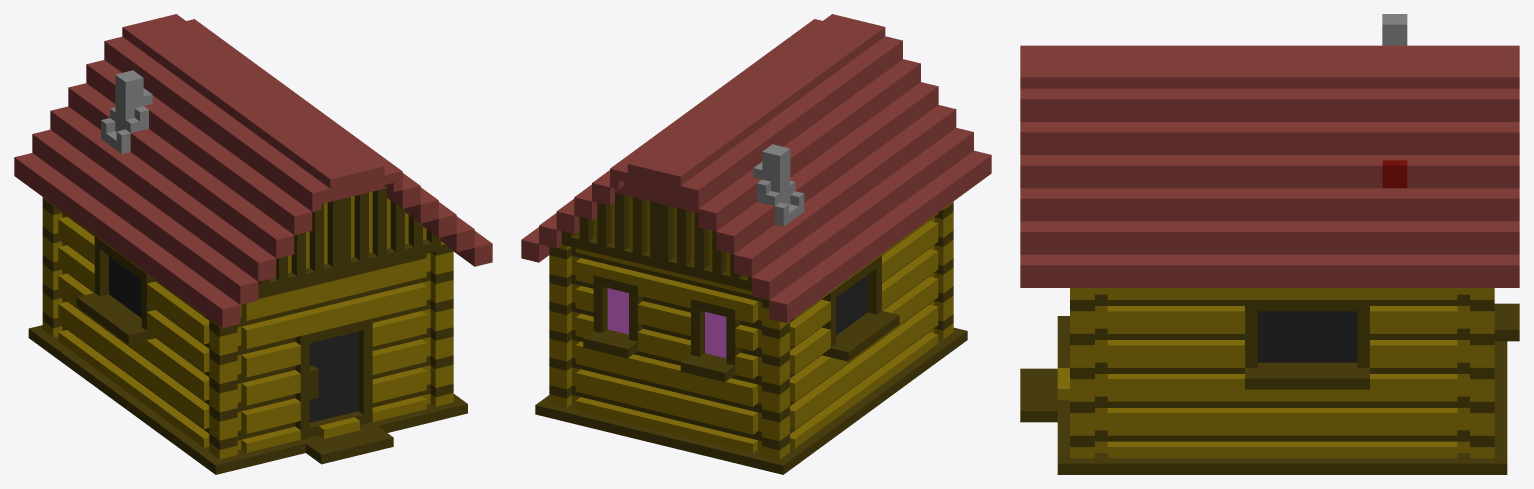
File: House_7.fbx
3 renders of one model, left to right at view 1: azimuth 30°, elevation 25°; view 2: azimuth 150°, elevation 25°; view 3: azimuth 270°, elevation 25°, orthographic. The views are drawn at different scales.
Visible parts, largest first — view 1: House_7; view 2: House_7; view 3: House_7.
Part boxes in pixels (box(x1,y1,x2,y2)): House_7: box(14, 14, 492, 474); House_7: box(521, 14, 991, 474); House_7: box(1020, 14, 1519, 474).
Bounding box in the file's own units: 30 × 30 × 40.
Materials: 1 (1 with a texture image).
